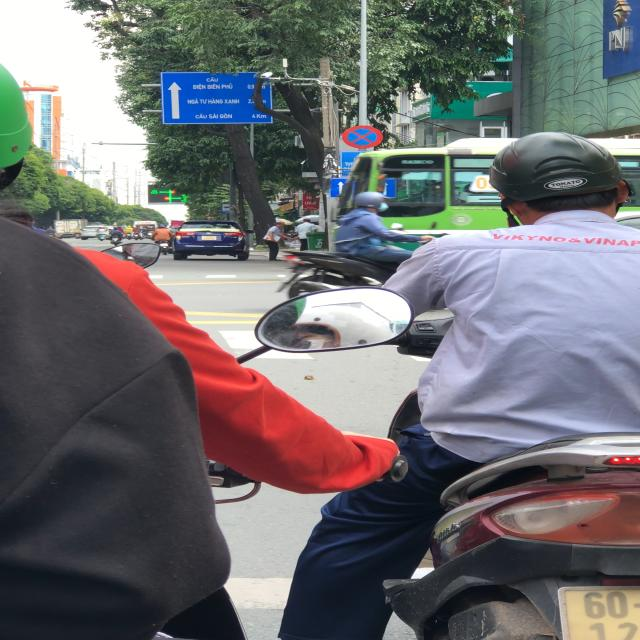Bien bao cam dung xe va do xe: (340, 123, 388, 150)
